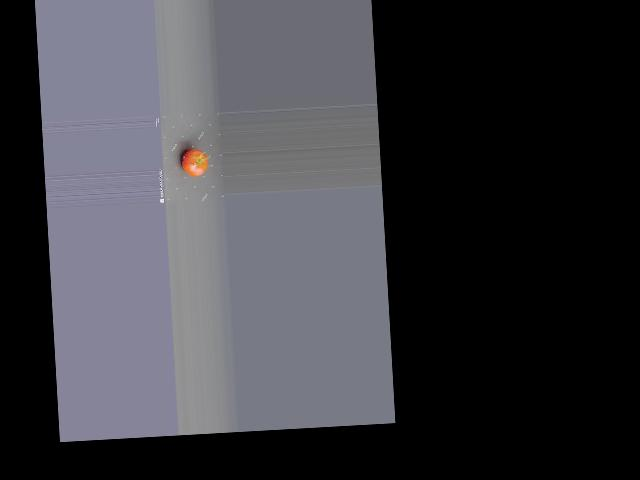tomato: (182, 148, 208, 176)
